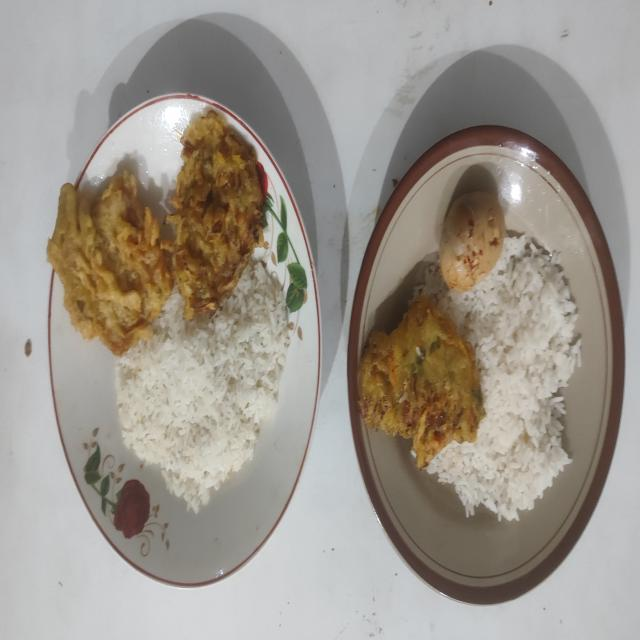nasi_putih: (421, 234, 581, 520), (116, 259, 292, 511)
